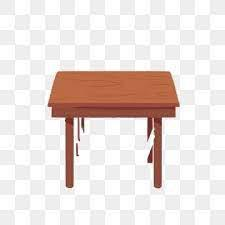desk: (28, 49, 205, 206)
